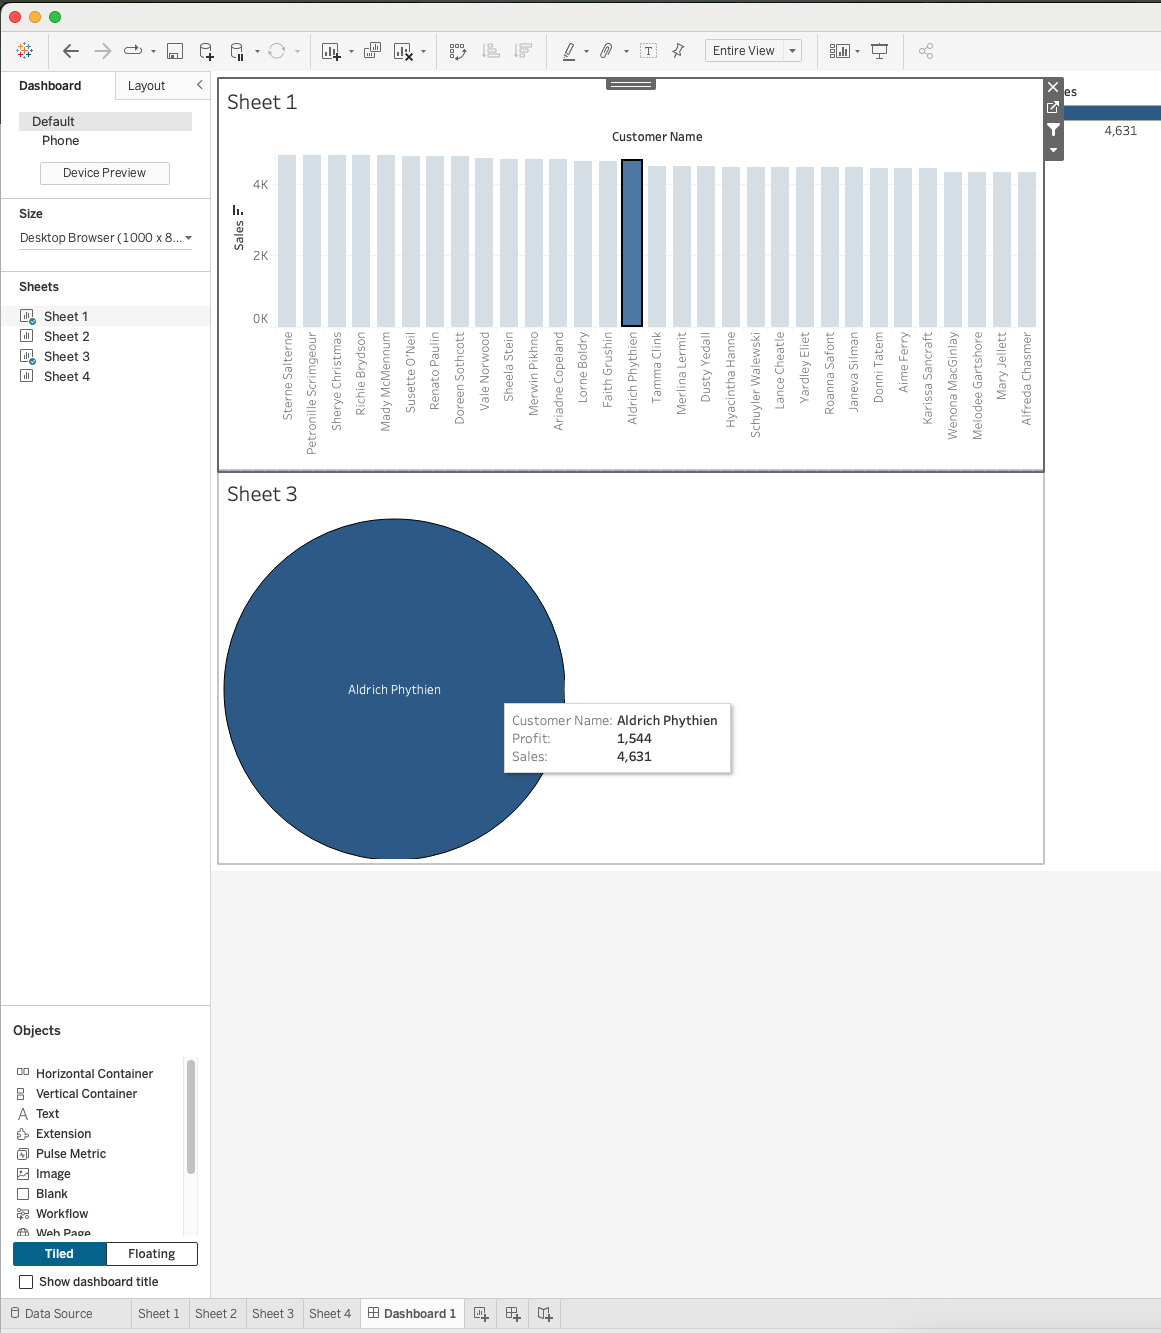

The page's visual inventory and layout, read from the dashboard file:
{"tool":"tableau","page":{"name":"Dashboard 1","canvas":[1000,800],"ordinal":0},"visuals":[{"type":"worksheet","title":"Sheet 1","mark":"Automatic","rows":["Sales"],"cols":["Customer Name"],"box":[8,8,824,392]},{"type":"legend","title":"Sheet 3","param":"[federated.12fgt4z05zfiit18cowtm0hukaxl].[sum:Sales:qk]","box":[832,8,160,65]},{"type":"worksheet","title":"Sheet 3","mark":"Circle","box":[8,400,824,392]}]}

Visuals, with their boxes on the page's 1000x800 design canvas (x1, y1, x2, y2). These are canvas units, not pixel positions in the 1161x1333 screenshot, which may show the page scaled, cropped or inside an application window:
"Sheet 1" worksheet: detection(8, 8, 832, 400)
"Sheet 3" legend: detection(832, 8, 992, 73)
"Sheet 3" worksheet (Circle marks): detection(8, 400, 832, 792)
